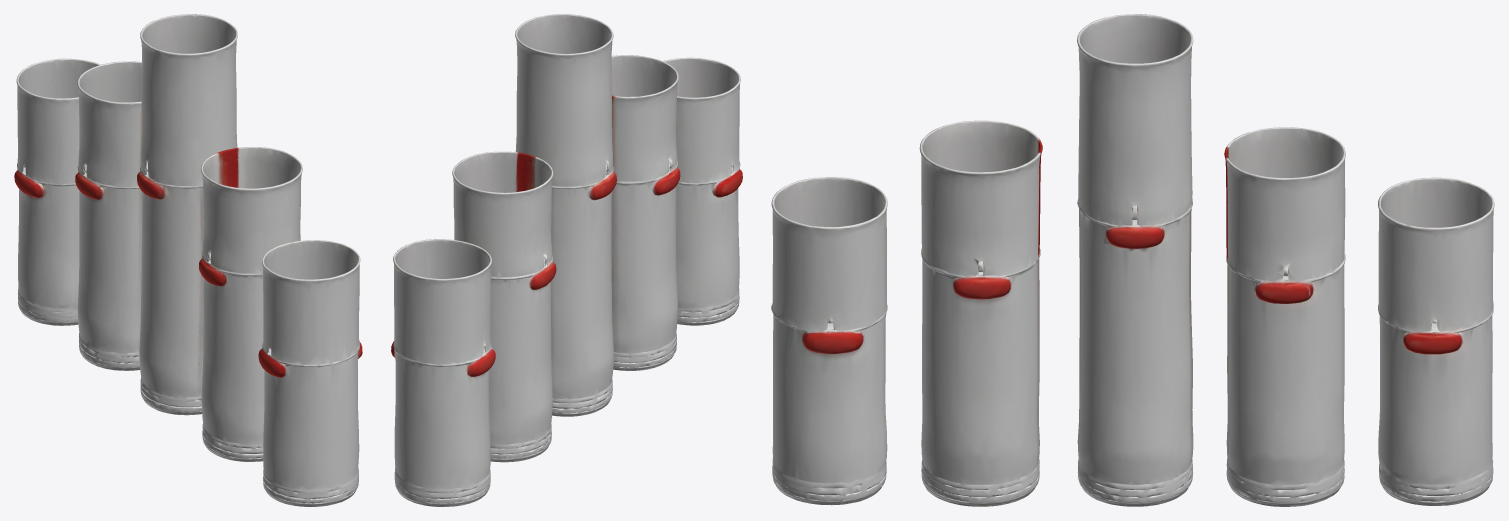
Rendered from decor-candleholders-glass.glb.
3 renders of one model, left to right at view 1: azimuth 30°, elevation 25°; view 2: azimuth 150°, elevation 25°; view 3: azimuth 270°, elevation 25°, orthographic. The views are drawn at different scales.
Parts seen in each view (by area): view 1: tripo_node_ef6e7641-99d7-4dd3-a429-6cd22bc44fbe; view 2: tripo_node_ef6e7641-99d7-4dd3-a429-6cd22bc44fbe; view 3: tripo_node_ef6e7641-99d7-4dd3-a429-6cd22bc44fbe.
Part boxes in pixels (left/top/right/bottom): tripo_node_ef6e7641-99d7-4dd3-a429-6cd22bc44fbe: left=14, top=14, right=362, bottom=506; tripo_node_ef6e7641-99d7-4dd3-a429-6cd22bc44fbe: left=391, top=14, right=742, bottom=506; tripo_node_ef6e7641-99d7-4dd3-a429-6cd22bc44fbe: left=771, top=14, right=1494, bottom=506.
Size of the model in its own units: 0.054 by 0.2 by 0.2944.
Materials: 1 (1 with a texture image).
